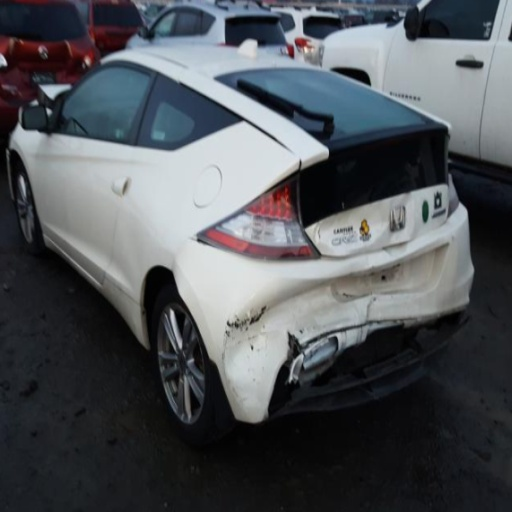dent: (218, 271, 367, 422), (313, 195, 413, 258)
rust: (220, 303, 270, 405)
scratch: (451, 234, 456, 248)
